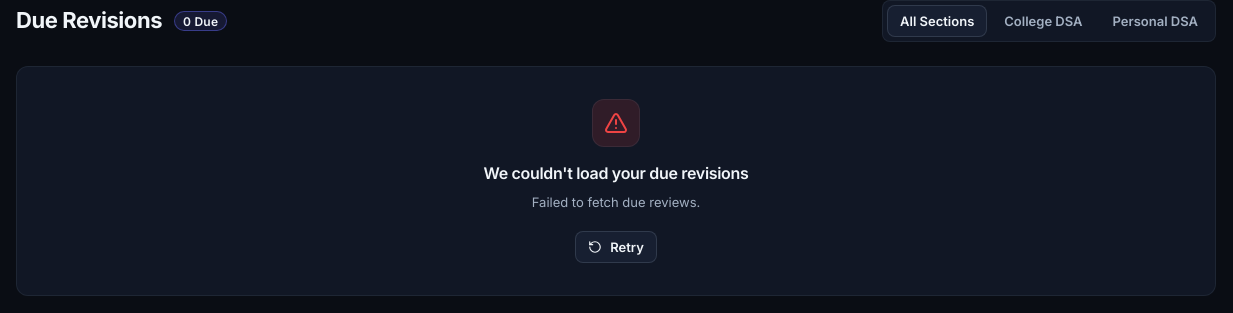
Test: Review flow — due queue and recall session › never renders the empty panel underneath an error, and retries successfully
Expected: the message shows "Failed to fetch due reviews.", x1=532 y1=194 x2=700 y2=210
Click the button "Retry" at (616, 247), box x1=575 y1=231 x2=657 y2=263
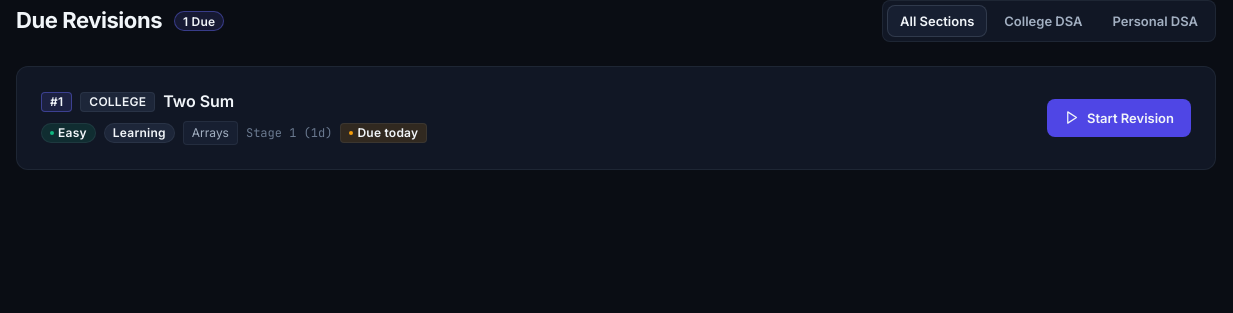
Expected: the link "Two Sum" is shown, x1=163 y1=91 x2=234 y2=113
Expected: the message "We couldn't load your due revisions Failed to fetch due reviews. Retry" is gone
